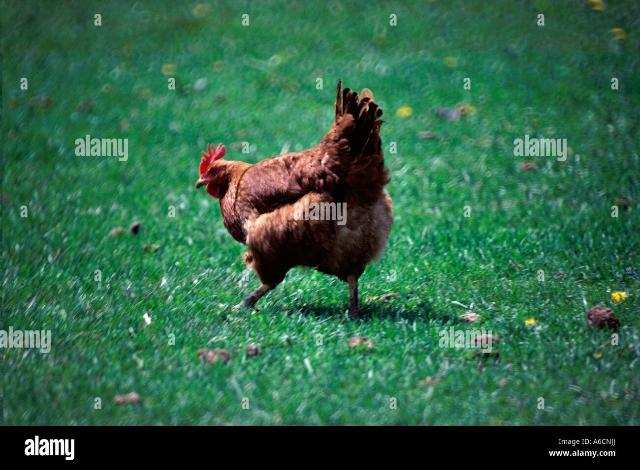Chicken: (196, 76, 396, 317)
